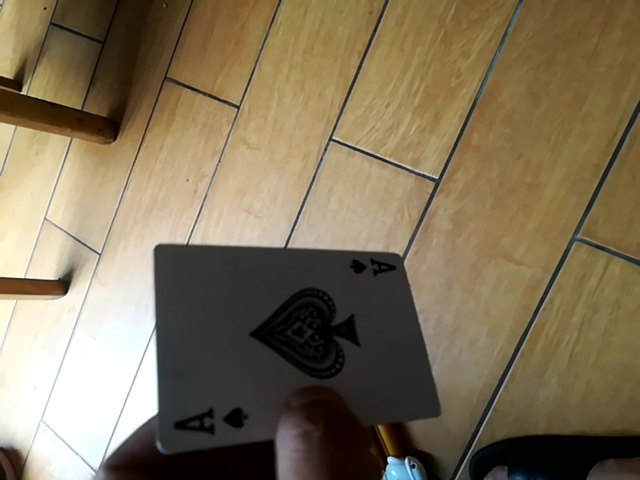ht a: (154, 241, 418, 456)
